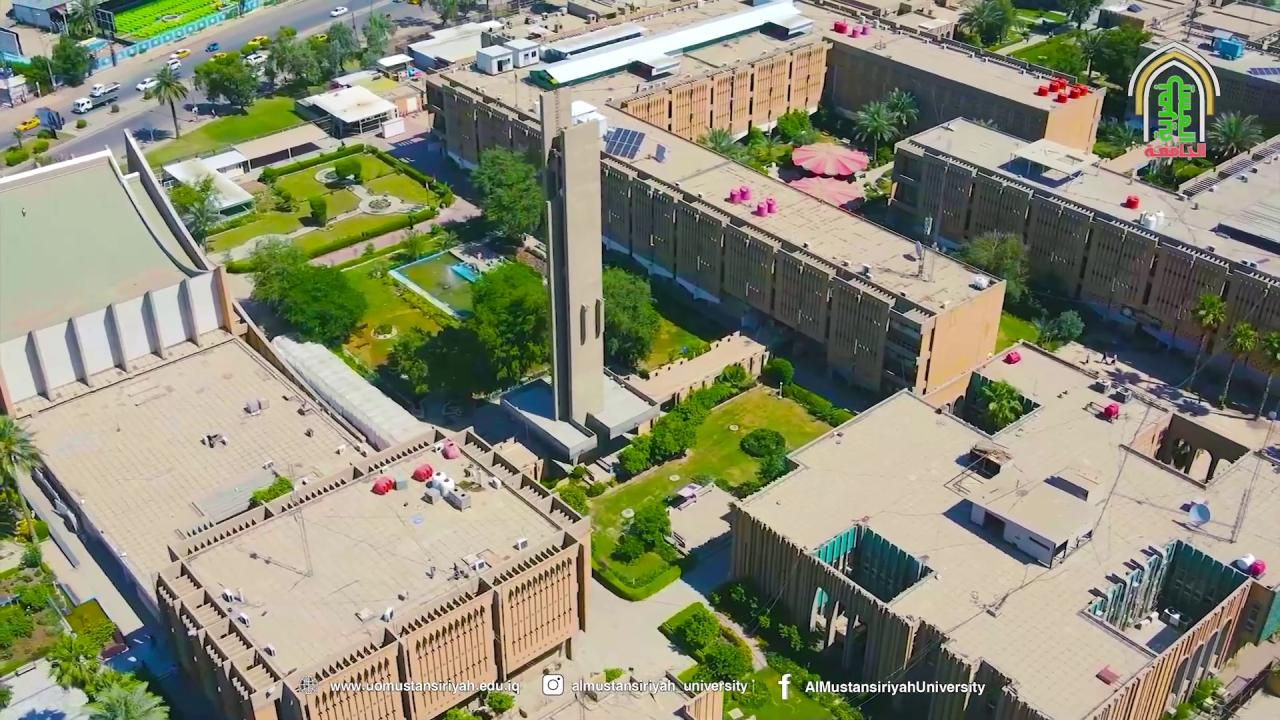car: (74, 92, 119, 113), (90, 77, 123, 94), (135, 76, 158, 91), (17, 117, 41, 131), (244, 50, 267, 64), (247, 35, 270, 48), (330, 5, 348, 17), (167, 58, 181, 70), (175, 49, 191, 58), (205, 41, 219, 51)
fountain: (443, 252, 495, 292)
tree: (225, 234, 368, 350), (466, 258, 550, 388), (275, 261, 368, 350), (468, 142, 543, 243), (602, 263, 662, 373), (225, 233, 311, 305), (957, 226, 1032, 305), (0, 412, 45, 516), (168, 171, 223, 254), (192, 50, 259, 108), (1218, 319, 1259, 409), (43, 628, 102, 690), (84, 678, 170, 719), (384, 325, 432, 396), (144, 63, 188, 138), (851, 99, 901, 165), (266, 24, 319, 84), (1188, 288, 1227, 368), (1161, 671, 1225, 719), (1152, 75, 1195, 145), (691, 640, 752, 687), (1206, 109, 1264, 156), (956, 0, 1016, 45), (738, 427, 786, 483), (1104, 22, 1152, 74), (1030, 306, 1085, 350), (978, 378, 1023, 431), (1254, 329, 1280, 420), (744, 125, 792, 172), (650, 412, 696, 457), (1070, 25, 1106, 82), (51, 33, 89, 87), (1092, 115, 1136, 160), (679, 606, 721, 652), (884, 86, 920, 139), (0, 602, 34, 658), (633, 499, 671, 548), (324, 20, 358, 74), (1223, 319, 1259, 368), (775, 107, 819, 147), (12, 55, 54, 96), (361, 12, 393, 62), (248, 474, 293, 509), (268, 25, 298, 74), (985, 0, 1017, 43), (396, 226, 434, 262), (761, 356, 794, 397), (1056, 0, 1102, 29), (64, 0, 96, 37), (1051, 309, 1085, 343), (698, 125, 736, 153), (557, 483, 589, 516), (611, 531, 643, 564), (1259, 330, 1279, 378), (716, 362, 748, 391), (36, 106, 65, 138), (428, 222, 458, 252), (485, 689, 514, 719), (777, 621, 803, 652), (1169, 437, 1191, 473), (334, 156, 362, 181), (308, 195, 328, 226), (443, 705, 481, 719), (30, 138, 49, 165), (566, 462, 587, 485), (438, 0, 458, 24), (11, 124, 25, 149), (603, 668, 623, 684)
